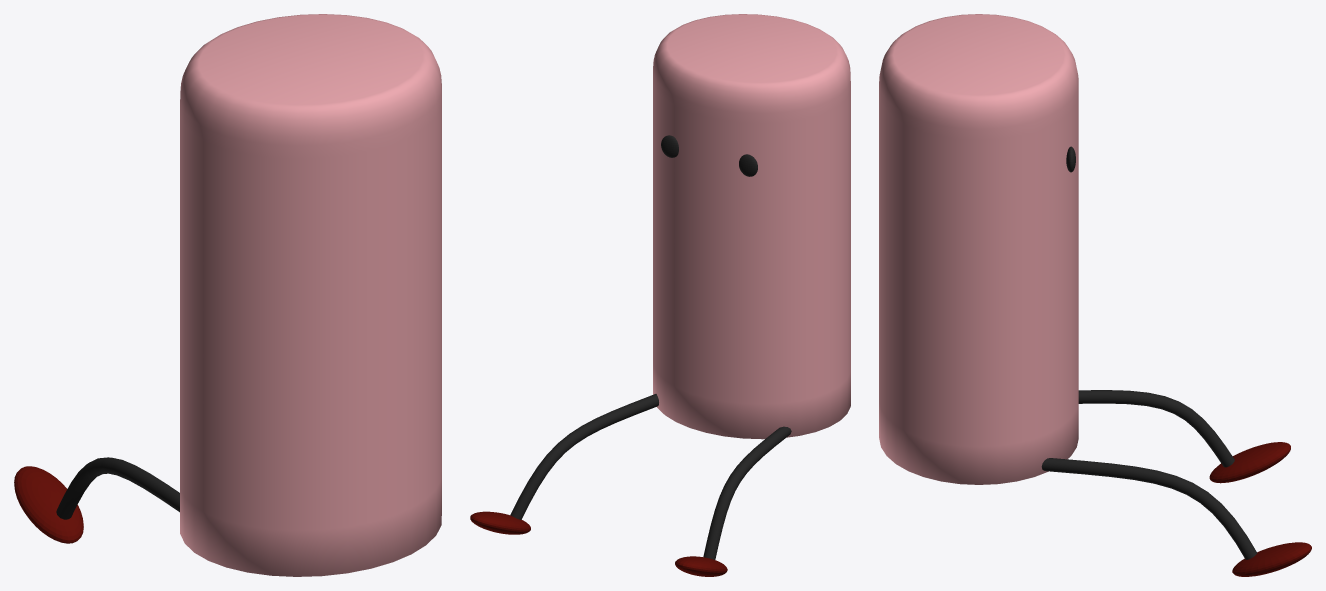
Rendered from avater.glb.
The picture shows the model from 3 angles, left to right: view 1: azimuth 30°, elevation 25°; view 2: azimuth 150°, elevation 25°; view 3: azimuth 270°, elevation 25°; orthographic projection. The views are drawn at different scales.
Visible parts, largest first — view 1: Cylinder.006, Sphere.001, BezierCurve; view 2: Cylinder.006, BezierCurve.003, BezierCurve, Sphere.002, Sphere.001, Sphere; view 3: Cylinder.006, BezierCurve.003, BezierCurve, Sphere.001, Sphere.002.
Part boxes in pixels (box(x1,y1,x2,y2)): Cylinder.006: box(180, 14, 441, 576); Sphere.001: box(14, 466, 83, 543); BezierCurve: box(56, 457, 179, 519); Cylinder.006: box(653, 14, 850, 439); BezierCurve.003: box(510, 394, 658, 519); BezierCurve: box(703, 426, 791, 559); Sphere.002: box(470, 511, 530, 534); Sphere.001: box(675, 556, 727, 576); Sphere: box(661, 135, 757, 176); Cylinder.006: box(879, 14, 1078, 484); BezierCurve.003: box(1041, 458, 1257, 559); BezierCurve: box(1078, 390, 1234, 467); Sphere.001: box(1209, 442, 1290, 483); Sphere.002: box(1232, 542, 1311, 576).
Size of the model in its own units: 1.27 by 2.26 by 1.91.
